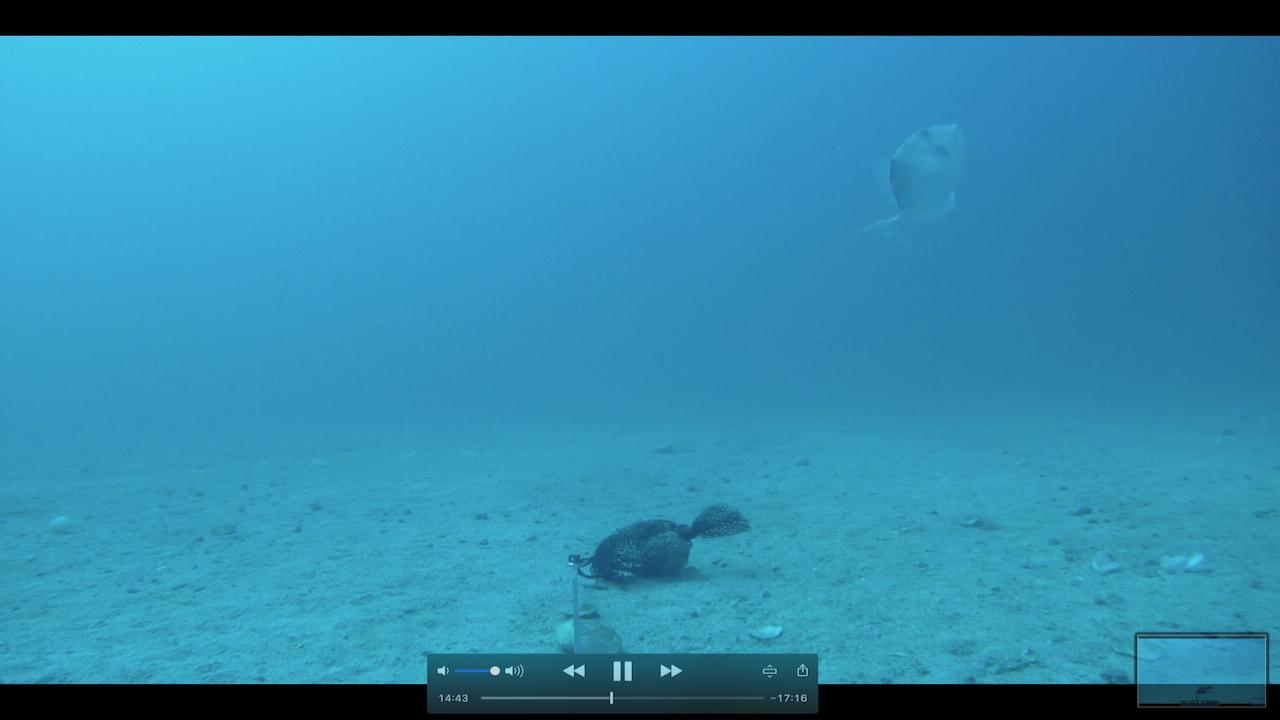balistes: (857, 116, 971, 260)
